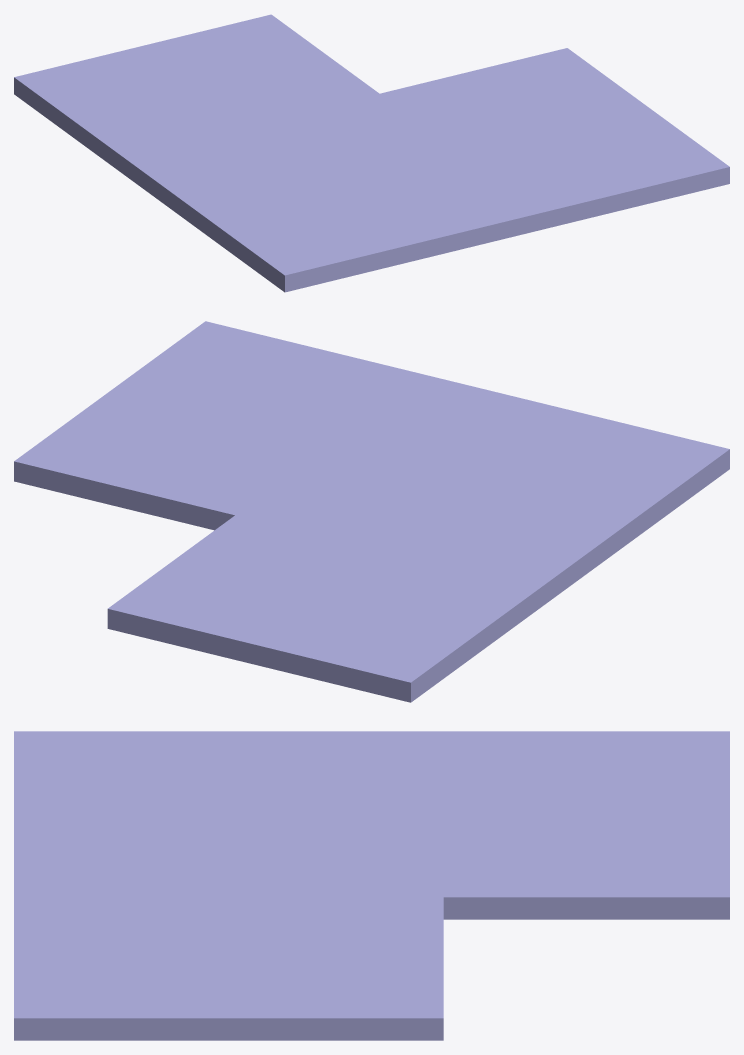
The model's file is floor.fbx.
3 renders of one model, top to bottom at view 1: azimuth 30°, elevation 25°; view 2: azimuth 150°, elevation 25°; view 3: azimuth 270°, elevation 25°, orthographic. The views are drawn at different scales.
Visible parts, largest first — view 1: Cube; view 2: Cube; view 3: Cube.
Boxes of the visible parts, box(x1,y1,x2,y2) form: Cube: box(14, 14, 729, 292); Cube: box(14, 321, 729, 702); Cube: box(14, 731, 729, 1040).
Size of the model in its own units: 1896 by 69.35 by 1998.
